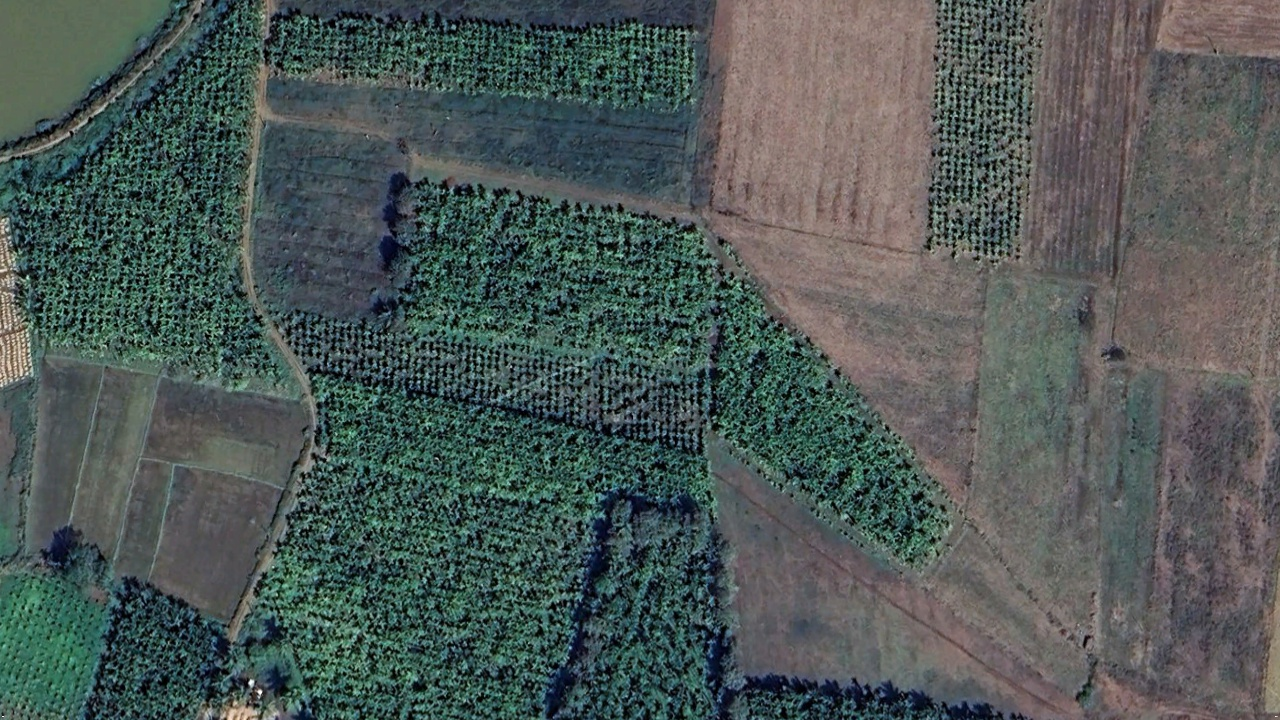arecanut: (255, 153, 951, 720), (5, 5, 275, 407), (267, 4, 723, 133)
